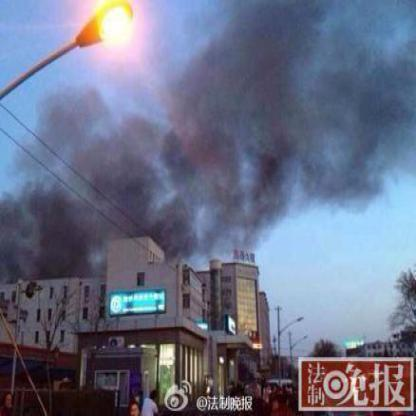smoke: (171, 59, 303, 258), (308, 70, 412, 214), (44, 98, 172, 196), (230, 5, 414, 70), (0, 180, 101, 278)
